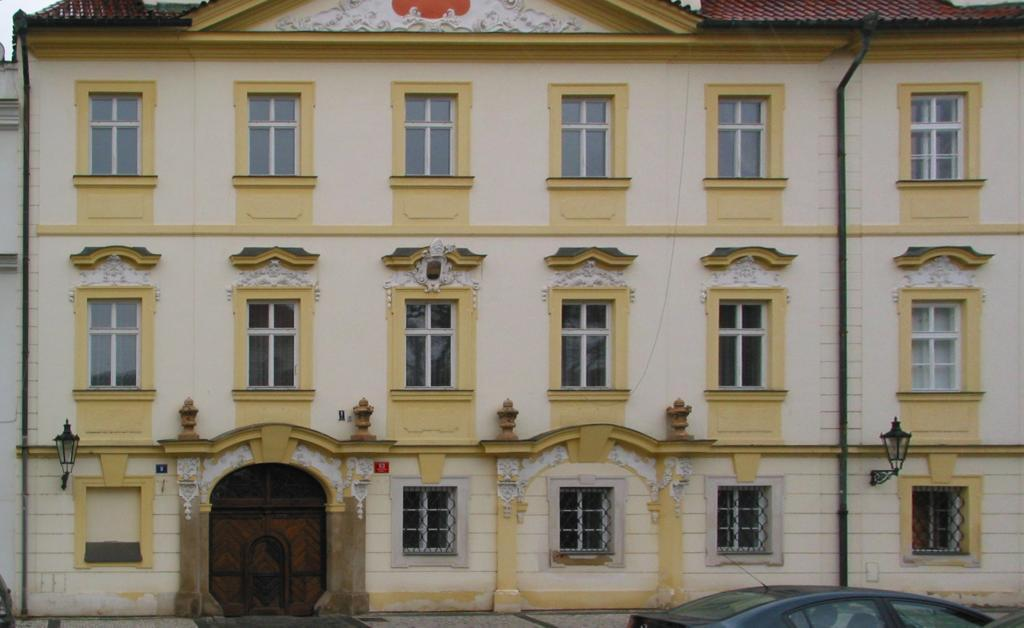window: (912, 300, 968, 392), (911, 92, 969, 180), (246, 299, 300, 390), (405, 298, 458, 390), (88, 298, 141, 389), (562, 300, 615, 390), (720, 300, 773, 390), (89, 92, 142, 176), (248, 93, 301, 177), (405, 93, 458, 177), (563, 95, 615, 178), (719, 96, 771, 178), (912, 486, 970, 554), (403, 487, 458, 553), (560, 488, 614, 553), (718, 486, 771, 552)
